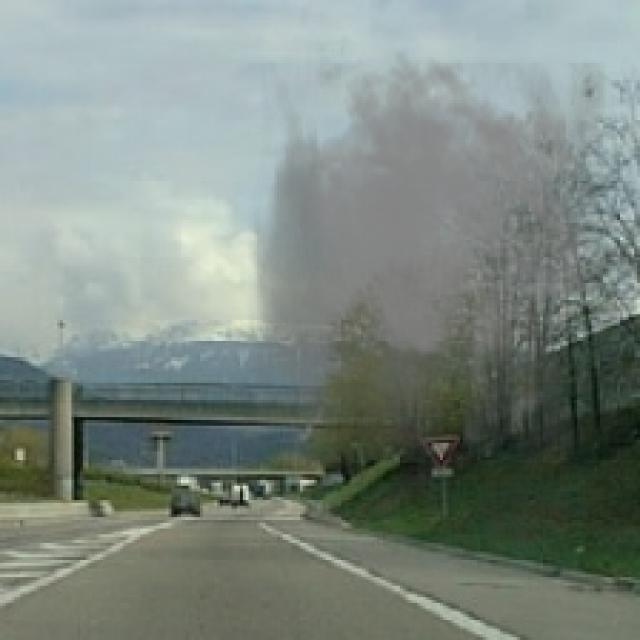smoke: (248, 48, 606, 463)
